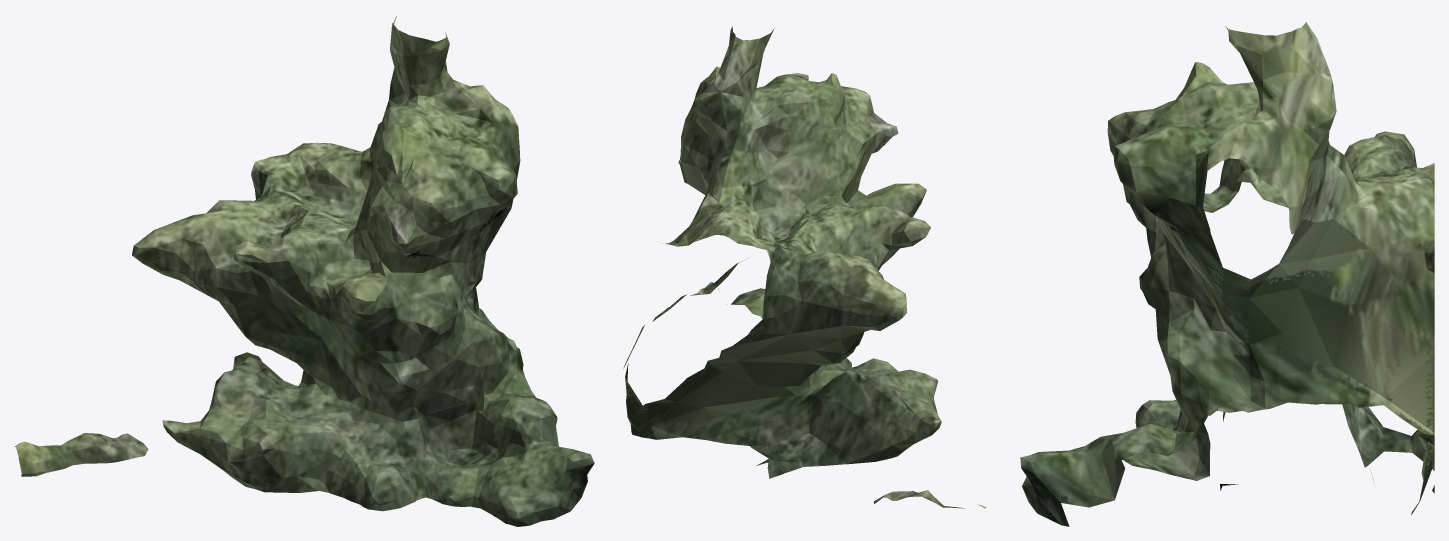
3 renders of one model, left to right at view 1: azimuth 30°, elevation 25°; view 2: azimuth 150°, elevation 25°; view 3: azimuth 270°, elevation 25°, orthographic. The views are drawn at different scales.
Bounding box in the file's own units: 5.9 × 5.9 × 4.77.
4 materials, 4 textured.
